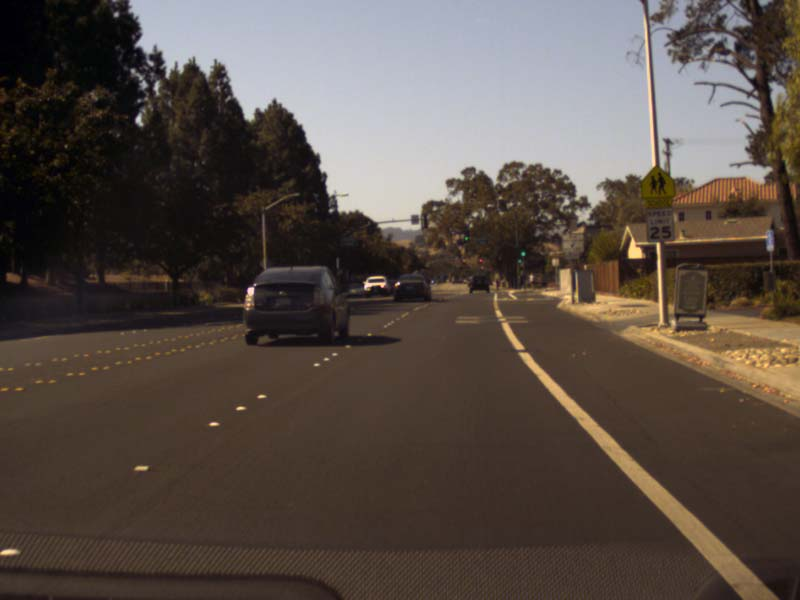Green: (464, 230, 468, 241), (520, 249, 526, 256), (516, 257, 521, 263)
Red: (478, 258, 481, 262)
